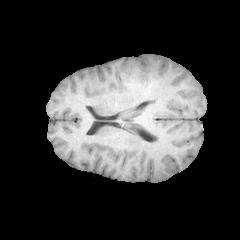glioma: (126, 63, 160, 98)
